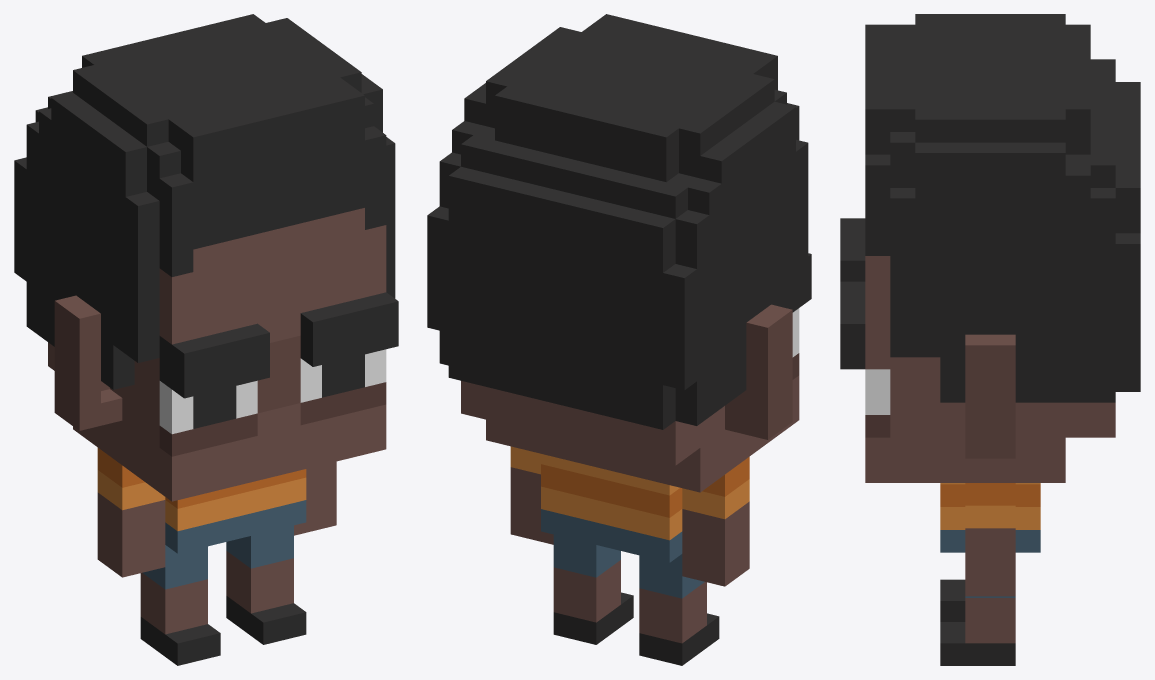
The picture shows the model from 3 angles, left to right: view 1: azimuth 30°, elevation 25°; view 2: azimuth 150°, elevation 25°; view 3: azimuth 270°, elevation 25°; orthographic projection.
Visible parts, largest first — view 1: Object_0; view 2: Object_0; view 3: Object_0.
Boxes of the visible parts, x1,y1,x2,y2 form: Object_0: (14,14,398,665); Object_0: (427,14,811,665); Object_0: (840,14,1140,665).
Size of the model in its own units: 0.952 by 1.7 by 0.816.
1 material, 1 textured.
